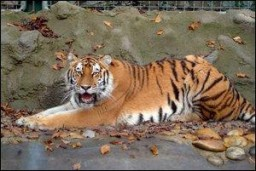Tigre: (64, 49, 243, 128)
